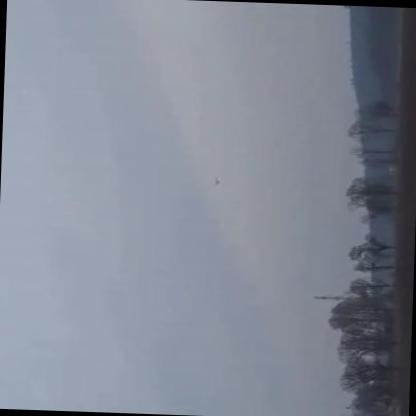plane: (206, 172, 223, 189)
